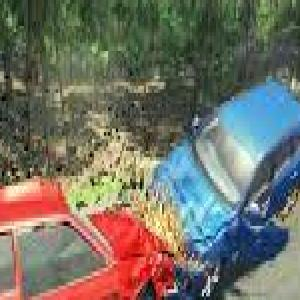low_impact: (0, 64, 300, 300)
